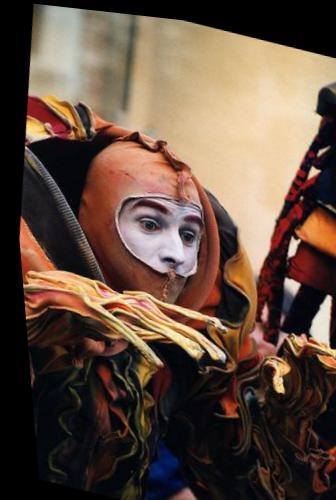WRONG: (95, 183, 204, 306)
